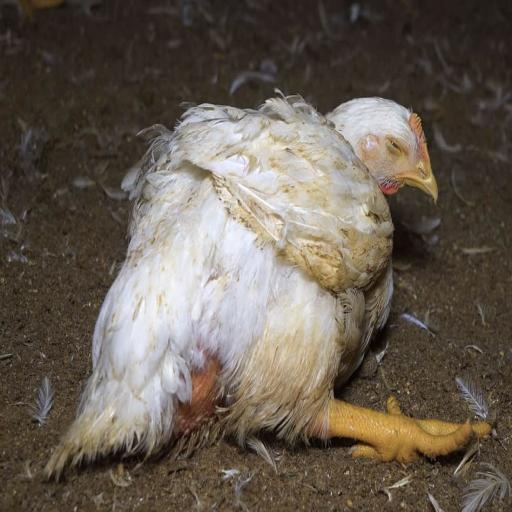disease: (364, 119, 429, 179)
